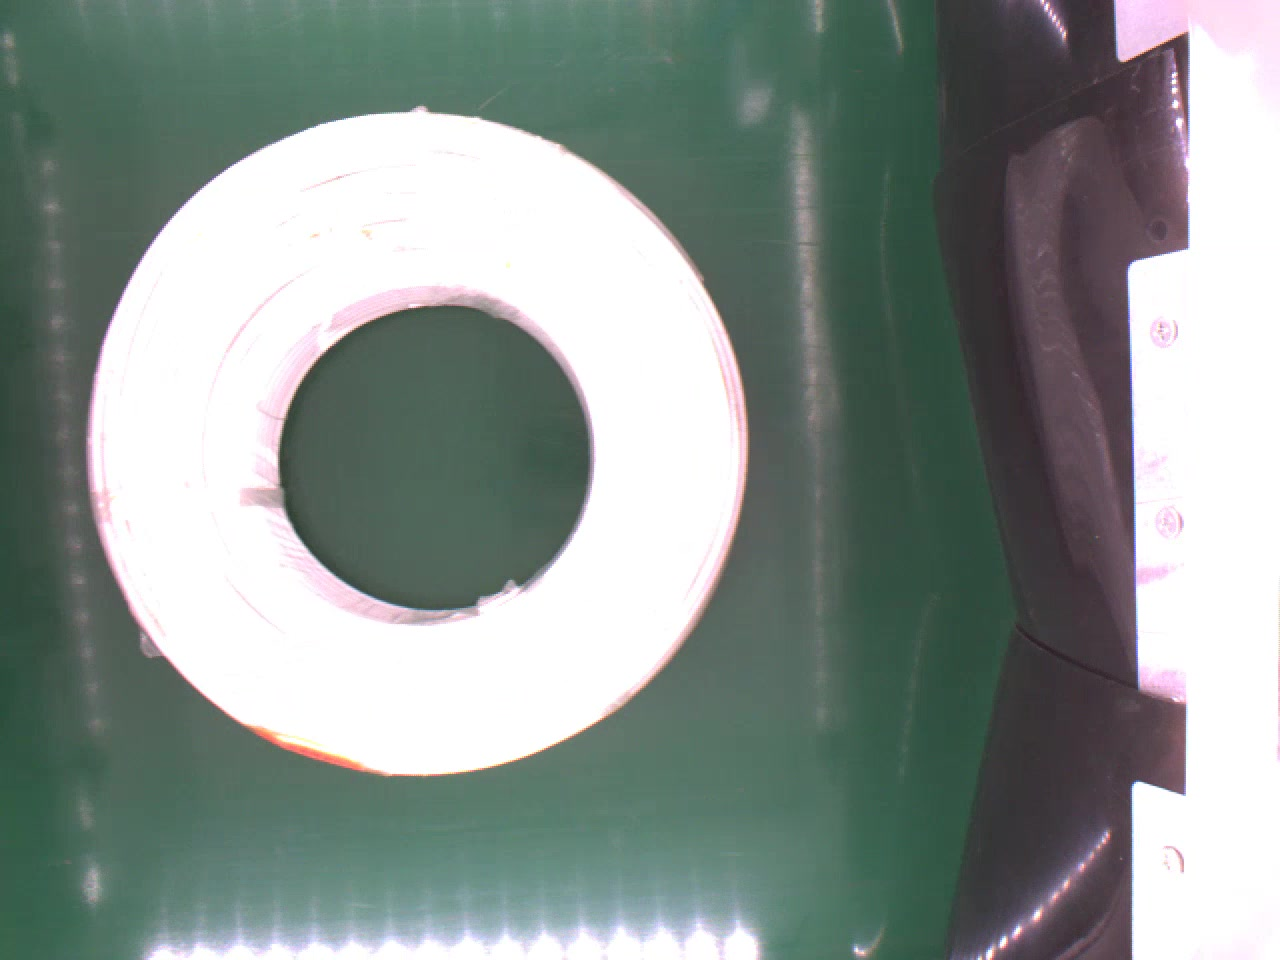white: (85, 101, 751, 786)
